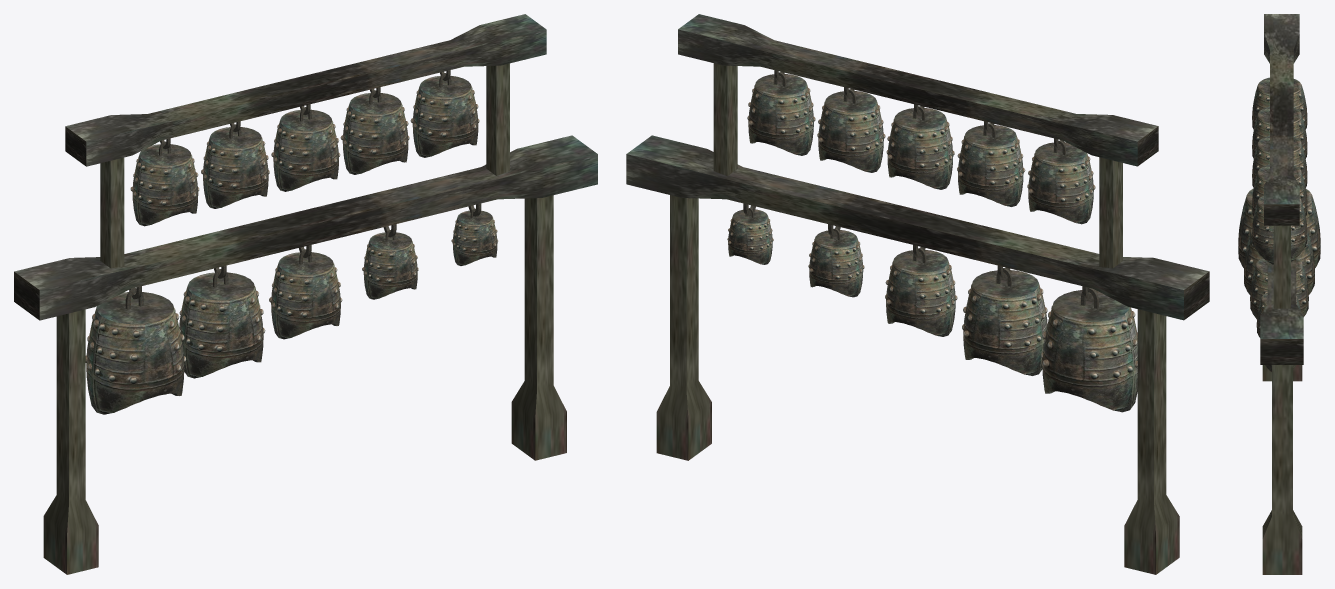
The model's file is 汉代编钟.FBX.
The picture shows the model from 3 angles, left to right: view 1: azimuth 30°, elevation 25°; view 2: azimuth 150°, elevation 25°; view 3: azimuth 270°, elevation 25°; orthographic projection. The views are drawn at different scales.
Visible parts, largest first — view 1: Box003, Box012, Box002, Box004, Box010, Box006, Box007, Box021, Box011, Box019, Box020, Box022 (+4 smaller); view 2: Box003, Box012, Box002, Box010, Box004, Box006, Box007, Box021, Box020, Box022, Box019, Box011 (+4 smaller); view 3: Box012, Box004, Box003, Box022, Box013, Box002, Box007, Box006, Box011, Box019, Box020, Box021 (+2 smaller).
Part boxes in pixels (x1,y1,x2,y2): Box003: (14, 135, 597, 320); Box012: (65, 14, 546, 166); Box002: (85, 288, 186, 414); Box004: (511, 195, 566, 460); Box010: (43, 309, 98, 574); Box006: (179, 269, 265, 378); Box007: (269, 249, 342, 339); Box021: (340, 90, 409, 174); Box011: (130, 141, 199, 226); Box019: (201, 124, 269, 208); Box020: (271, 107, 340, 191); Box022: (410, 73, 479, 157); Box003: (626, 135, 1209, 320); Box012: (678, 14, 1158, 166); Box002: (1041, 287, 1137, 412); Box010: (1124, 309, 1179, 574); Box004: (656, 195, 711, 460); Box006: (962, 268, 1047, 375); Box007: (885, 248, 957, 336); Box021: (817, 89, 885, 172); Box020: (886, 106, 954, 189); Box022: (747, 72, 815, 155); Box019: (957, 123, 1025, 206); Box011: (1027, 140, 1095, 224); Box012: (1264, 14, 1299, 225); Box004: (1262, 365, 1302, 574); Box003: (1260, 258, 1303, 364); Box022: (1252, 195, 1307, 264); Box013: (1273, 225, 1290, 308); Box002: (1238, 188, 1320, 267); Box007: (1250, 258, 1308, 319); Box006: (1244, 229, 1314, 294); Box011: (1252, 77, 1307, 129); Box019: (1252, 106, 1307, 158); Box020: (1252, 136, 1307, 187); Box021: (1252, 164, 1307, 216).
Bounding box in the file's own units: 239 × 175 × 36.15.
Materials: 1 (1 with a texture image).
